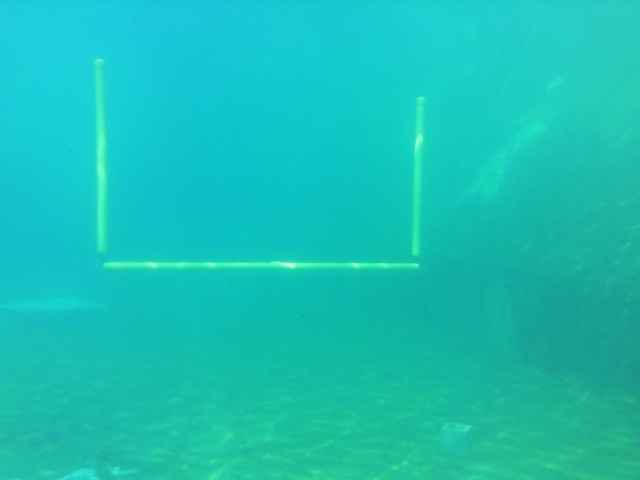channel: (90, 57, 431, 278)
